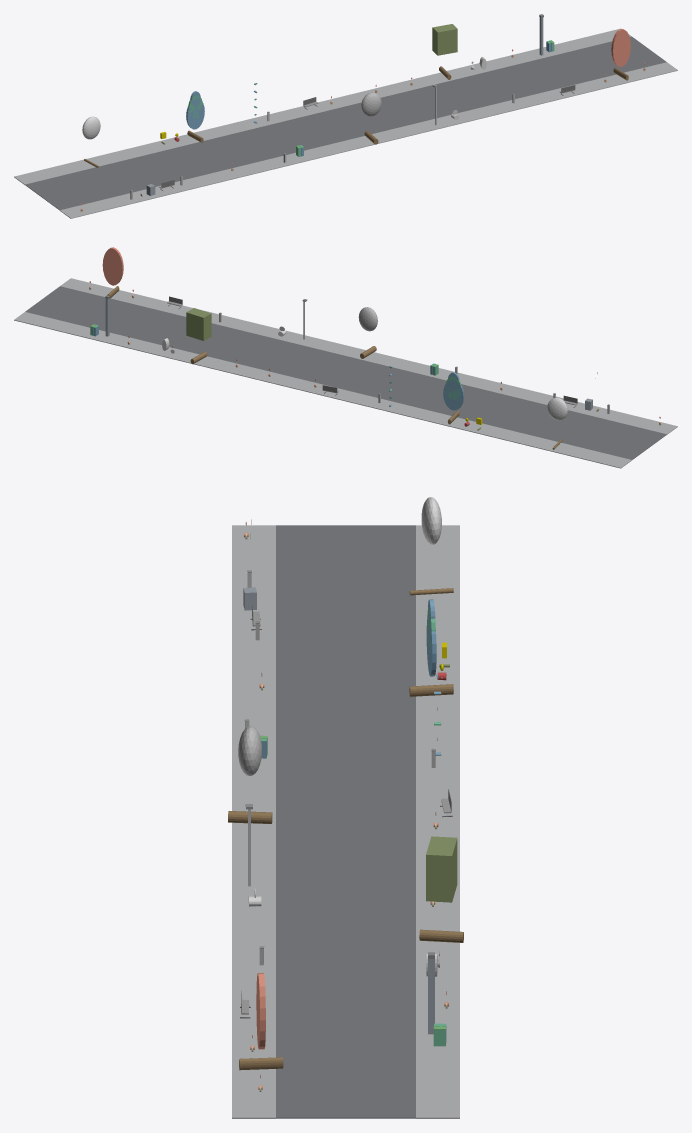
The picture shows the model from 3 angles, top to bottom: view 1: azimuth 30°, elevation 25°; view 2: azimuth 150°, elevation 25°; view 3: azimuth 270°, elevation 25°; orthographic projection. The views are drawn at different scales.
Visible parts, largest first — view 1: road_slab, sidewalk_left, sidewalk_right, inst_0015, inst_0016, inst_0013, inst_0014, inst_0012; view 2: road_slab, sidewalk_right, sidewalk_left, inst_0015, inst_0016, inst_0013, inst_0014, inst_0012; view 3: road_slab, sidewalk_left, sidewalk_right, inst_0015, inst_0014, inst_0016, inst_0013, inst_0012.
Part boxes in pixels (<box>): road_slab: <box>25,36,666,210</box>; sidewalk_left: <box>60,62,677,218</box>; sidewalk_right: <box>14,29,631,184</box>; inst_0015: <box>432,24,457,79</box>; inst_0016: <box>611,28,630,80</box>; inst_0013: <box>186,91,204,142</box>; inst_0014: <box>361,92,381,144</box>; inst_0012: <box>82,116,100,167</box>; road_slab: <box>25,286,666,459</box>; sidewalk_right: <box>14,312,631,468</box>; sidewalk_left: <box>60,278,677,434</box>; inst_0015: <box>186,308,211,364</box>; inst_0016: <box>102,247,123,298</box>; inst_0013: <box>443,372,463,424</box>; inst_0014: <box>358,307,377,358</box>; inst_0012: <box>547,397,567,449</box>; road_slab: <box>276,525,415,1118</box>; sidewalk_left: <box>232,525,275,1118</box>; sidewalk_right: <box>416,525,459,1118</box>; inst_0015: <box>419,836,463,942</box>; inst_0014: <box>228,726,272,823</box>; inst_0016: <box>239,973,283,1070</box>; inst_0013: <box>409,599,453,696</box>; inst_0012: <box>409,497,453,595</box>.
Bounding box in the file's own units: 80 × 6.08 × 13.47.
